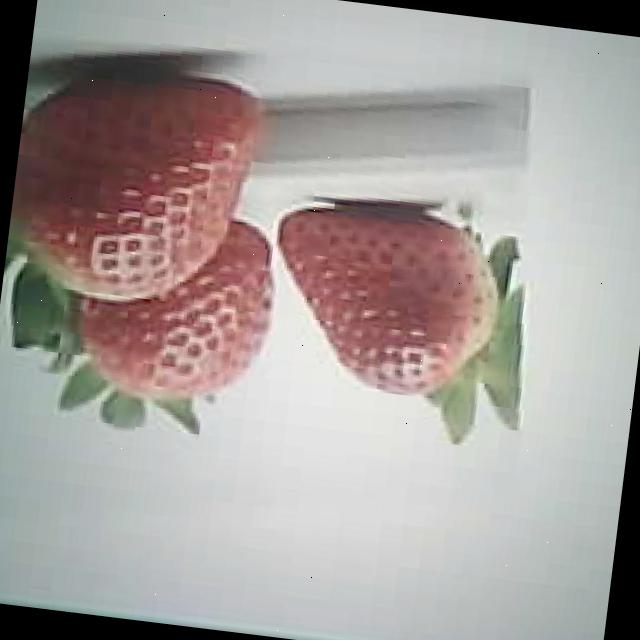strawberry: (2, 55, 264, 318), (257, 198, 502, 408), (68, 205, 283, 416)
